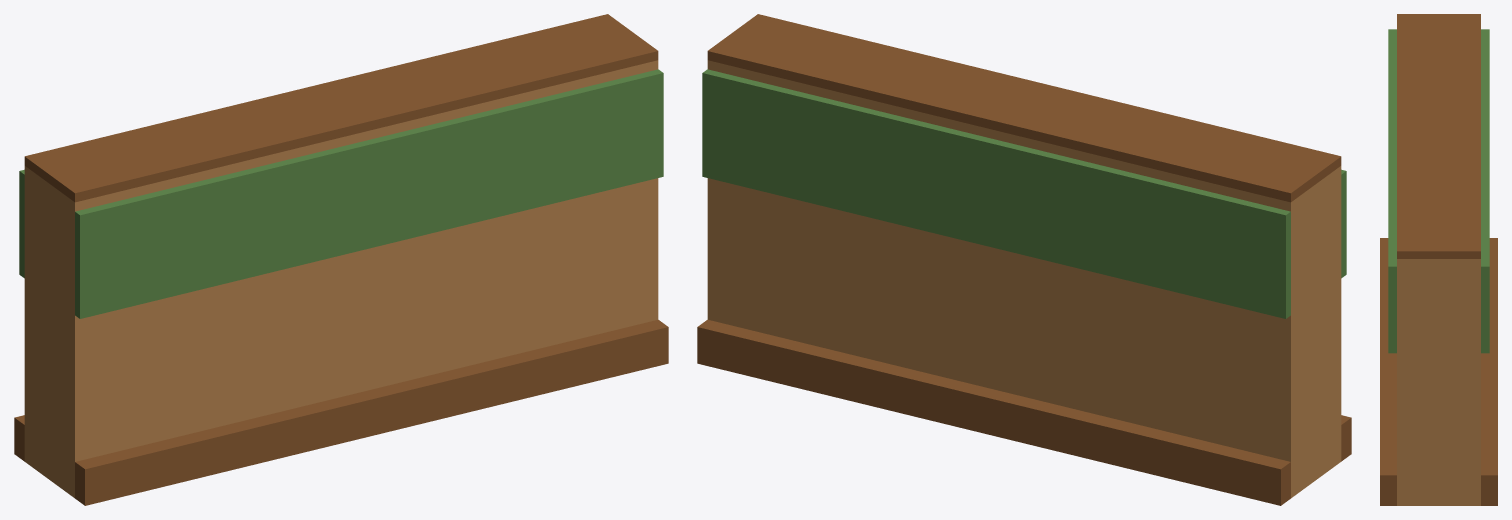
Rendered from partition.glb.
3 renders of one model, left to right at view 1: azimuth 30°, elevation 25°; view 2: azimuth 150°, elevation 25°; view 3: azimuth 270°, elevation 25°, orthographic. The views are drawn at different scales.
Parts seen in each view (by area): view 1: partition; view 2: partition; view 3: partition.
Part boxes in pixels (<box>): partition: <box>14,14,668,505</box>; partition: <box>697,14,1351,505</box>; partition: <box>1380,14,1497,505</box>.
Bounding box in the file's own units: 1 × 0.5 × 0.21.
1 material, 1 textured.
